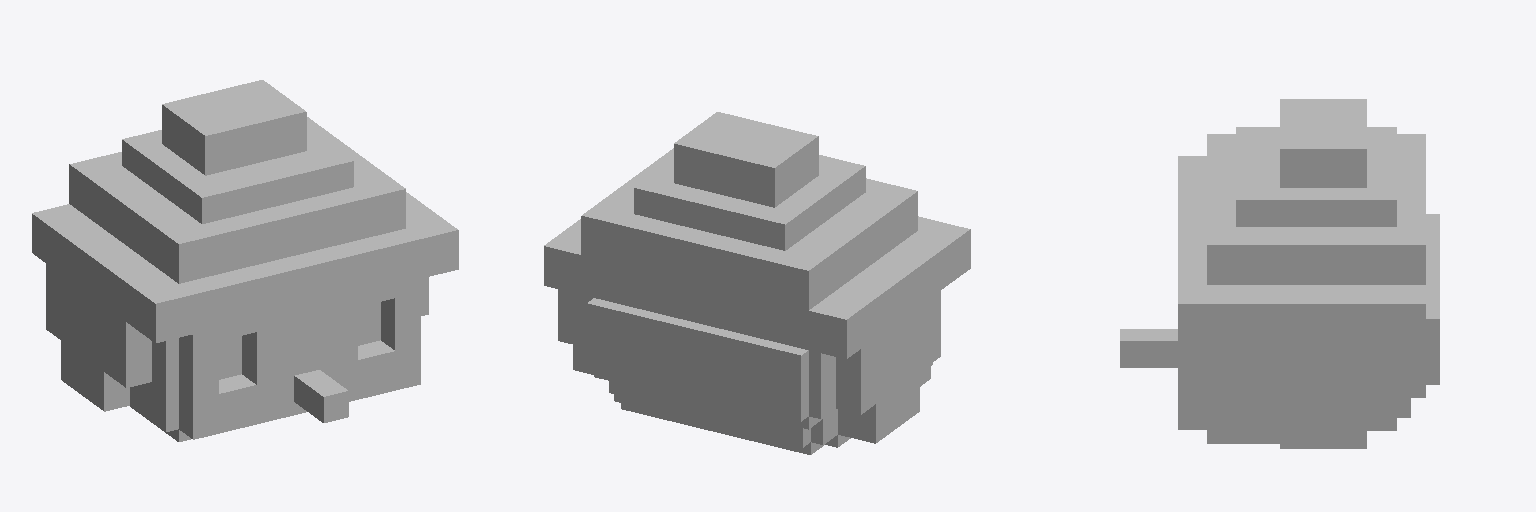
Rendered from head-red.obj.
3 views of the same model, side by side, from view 1: azimuth 30°, elevation 25°; view 2: azimuth 150°, elevation 25°; view 3: azimuth 270°, elevation 25° (orthographic).
Bounding box in the file's own units: 24 × 20 × 22.